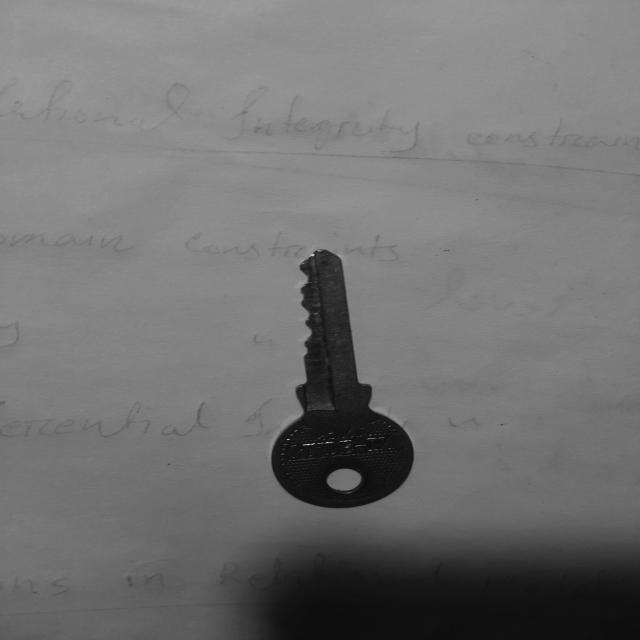KEY: (272, 250, 414, 508)
